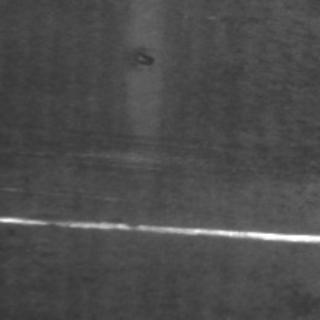scratches: (5, 208, 317, 244)
